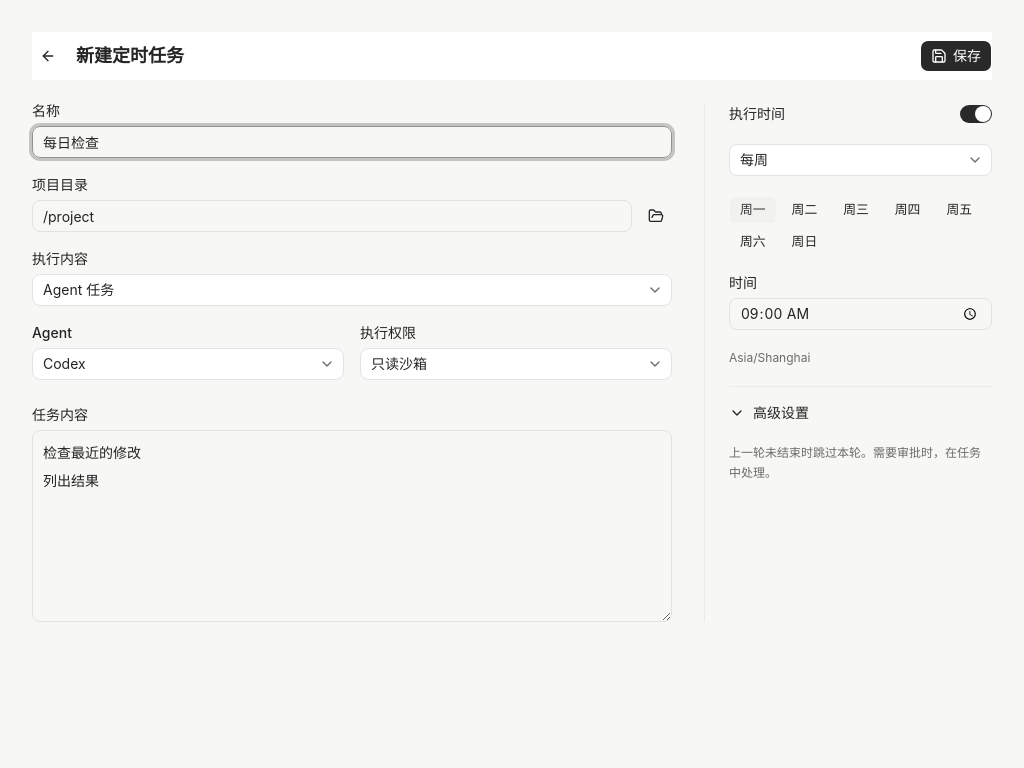
keeps invalid timezones editable without crashing and rejects an empty weekly schedule
This screenshot has width=1024, height=768.
Click the button "周一": (753, 210) [729,196,777,224]
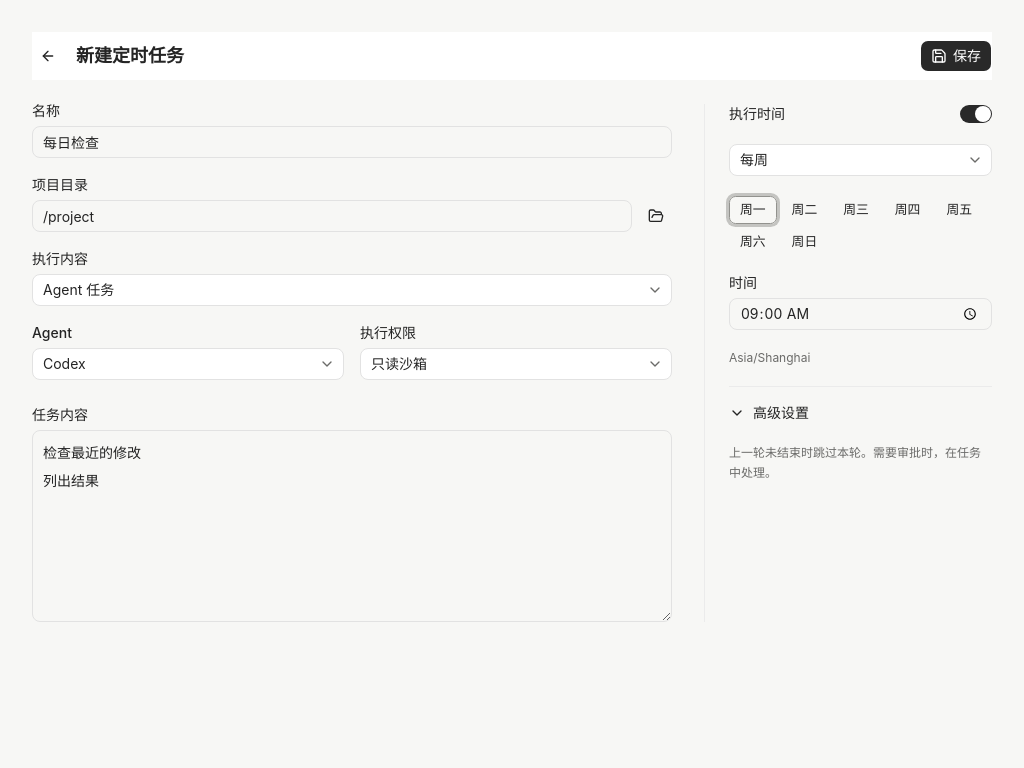
Click the button "保存": (956, 56) [920,40,992,72]
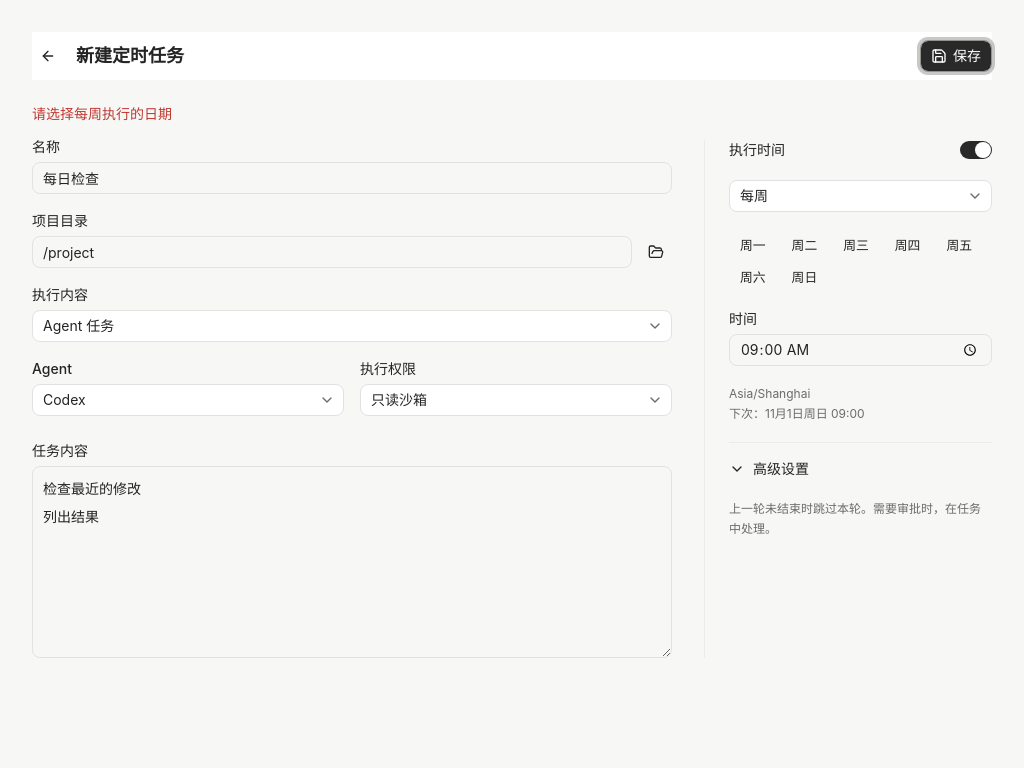
Now the message reads "请选择每周执行的日期", box [32,105,172,122]
